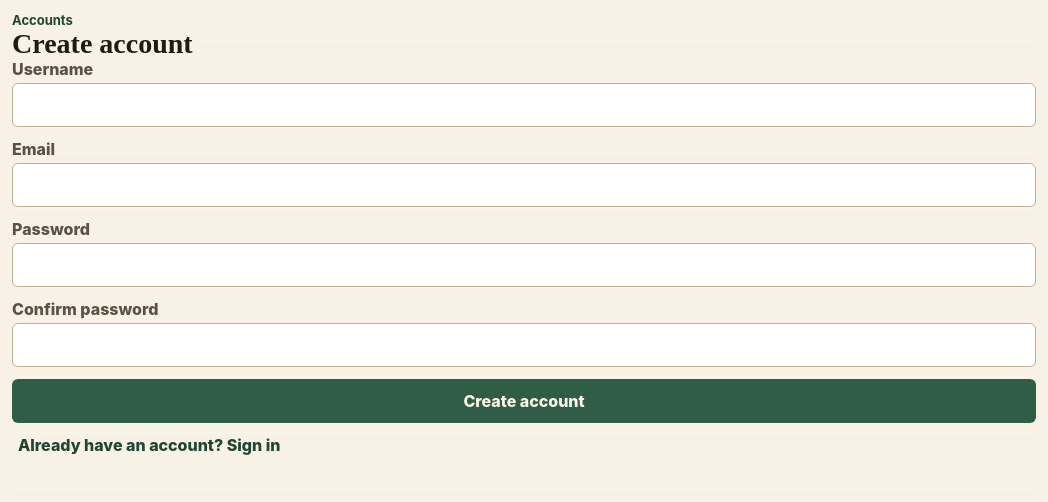
Test: AuthForm › shows invalid email after blur and clears it when corrected
Type "not-an-email" into the field labelled "Email" at (524, 185), box [12,163,1036,207]
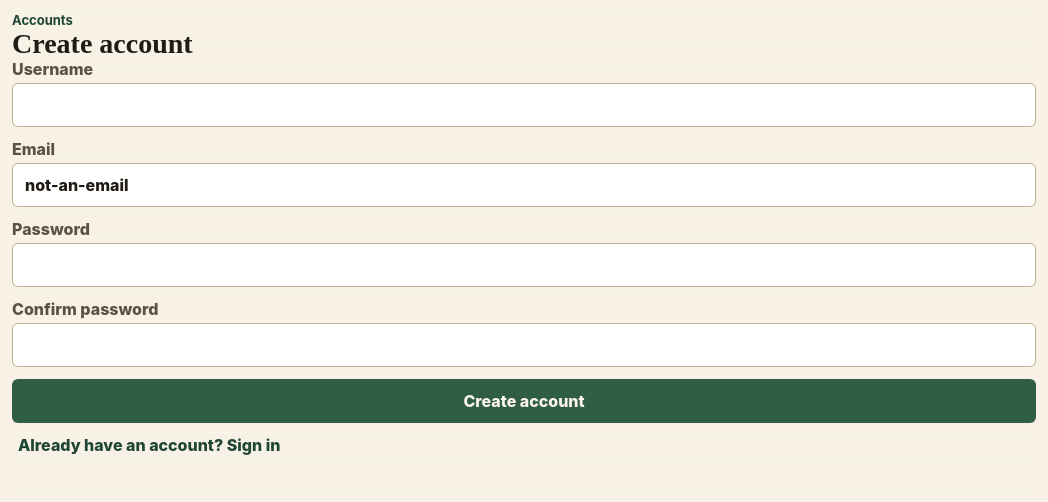
Expected: the text "Enter a valid email address." is not shown
Leave the field labelled "Email", box [12,163,1036,207]
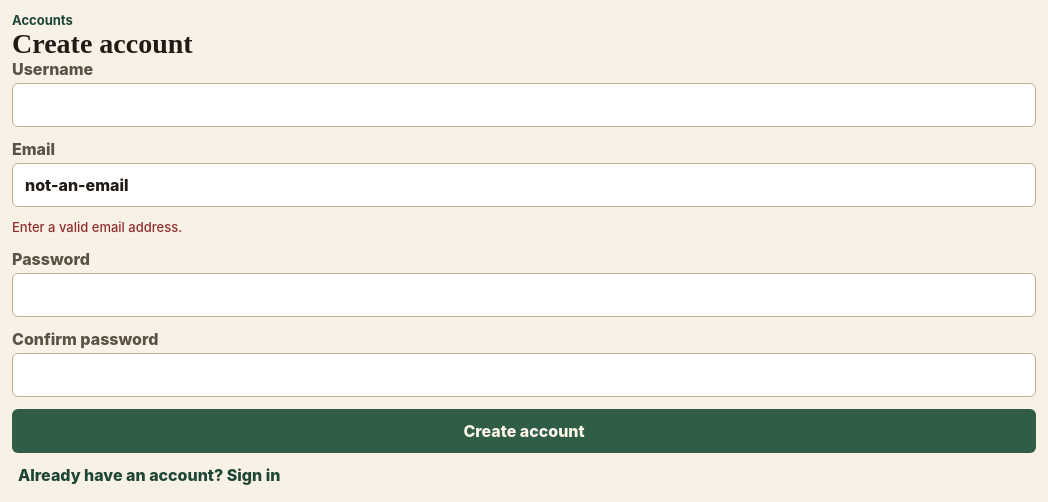
Result: the message reads "Enter a valid email address." at [12,219,182,235]
Replace the text in the field labelled "Email" with "mara@example.com" at (524, 185), box [12,163,1036,207]
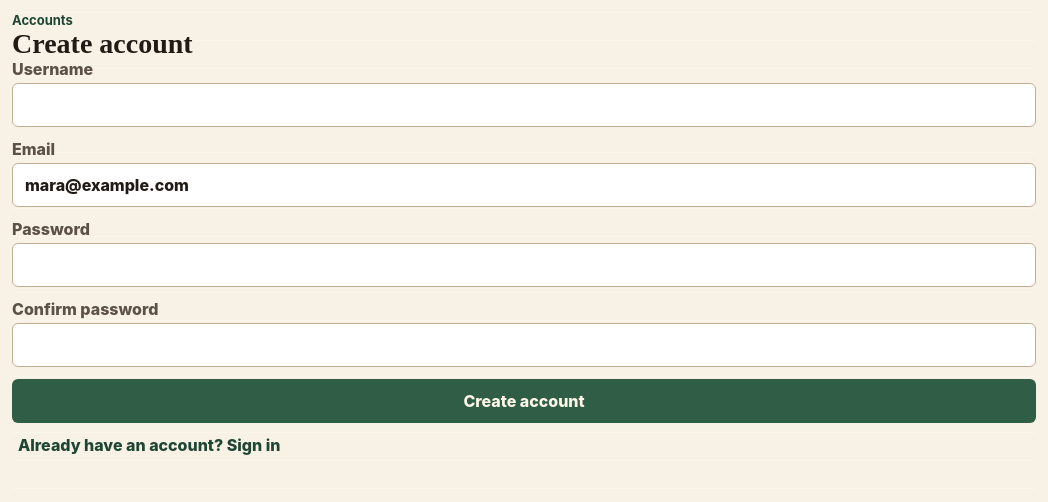
Result: the text "Enter a valid email address." is gone
